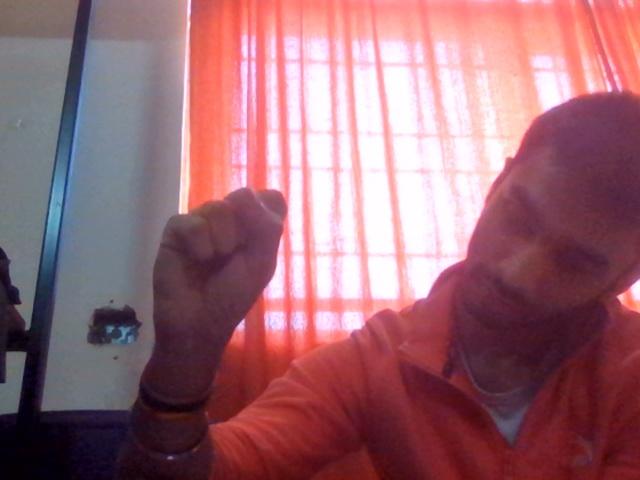S: (135, 165, 348, 379)
